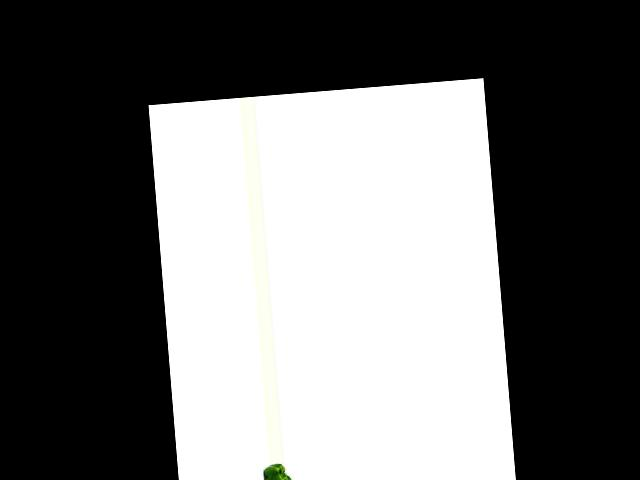bell_pepper: (260, 462, 286, 480)
